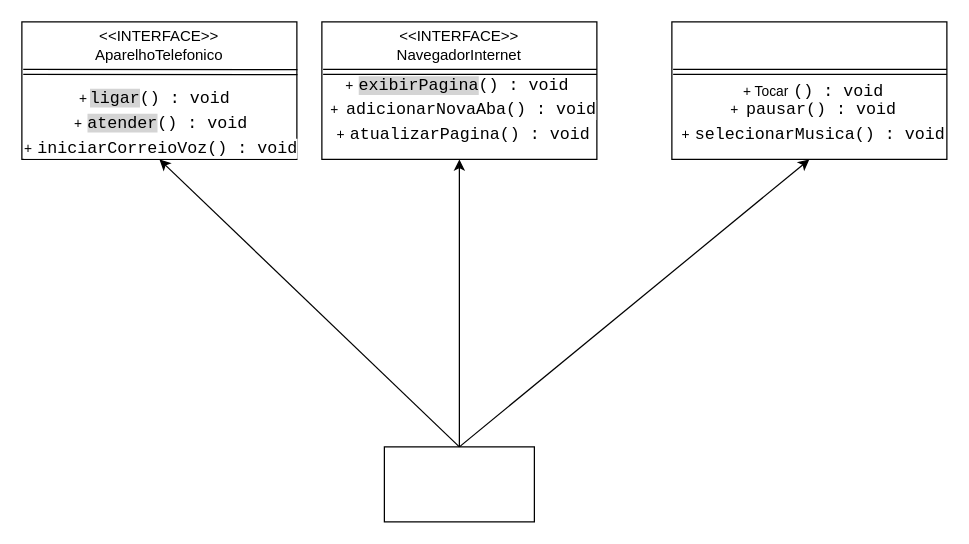
Image size: 969x544. Some labels were removed from this diagram. Here are the shapes that lost their labels. From the top down, the box of each, then its label:
(671, 21, 947, 159): <<INTERFACE>> ReprodutorMusical
(383, 446, 534, 522): Iphone
